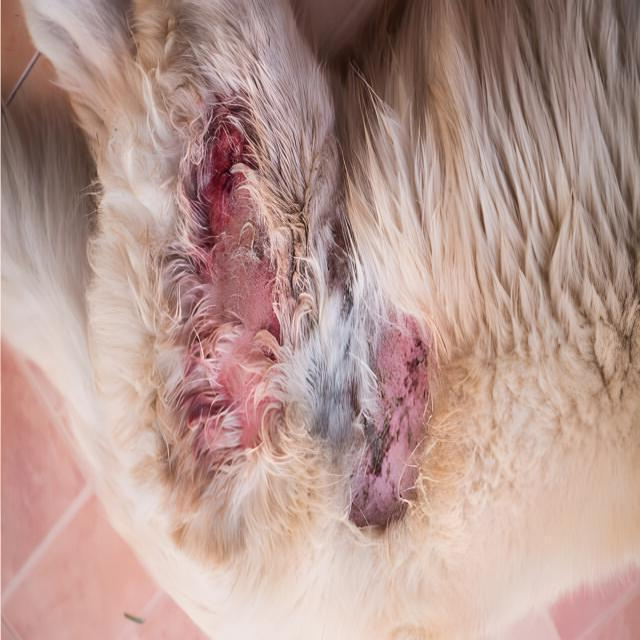allergic dermatitis: (160, 102, 275, 472), (341, 304, 442, 579)
